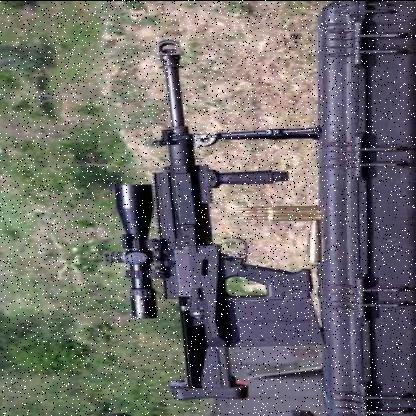rifle: (57, 28, 342, 412)
